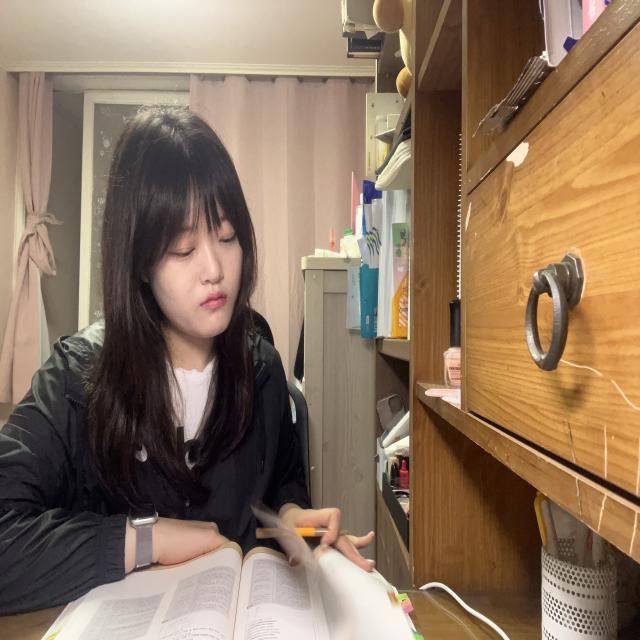studying-person: (0, 101, 419, 640)
